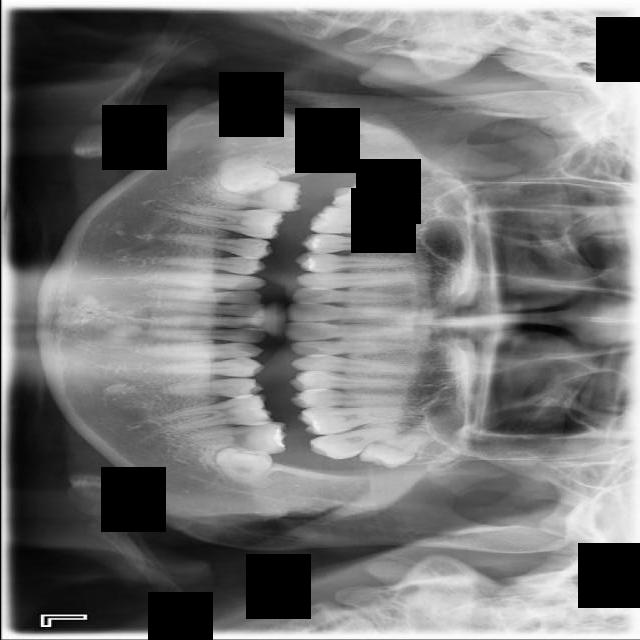52: (295, 404, 355, 437), (235, 420, 286, 455), (293, 249, 344, 275), (300, 233, 346, 254)
73: (50, 538, 58, 542)
BioHorizons Implant: (306, 423, 412, 465)
BioLife Implant: (355, 423, 441, 478)
Biomet 3i Implant: (211, 443, 277, 491)
Blue Sky Bio Implant: (185, 415, 287, 457)
Caries: (330, 177, 428, 222)
Implant: (194, 173, 303, 214)
Keystone Dental Implant: (214, 149, 281, 200)
